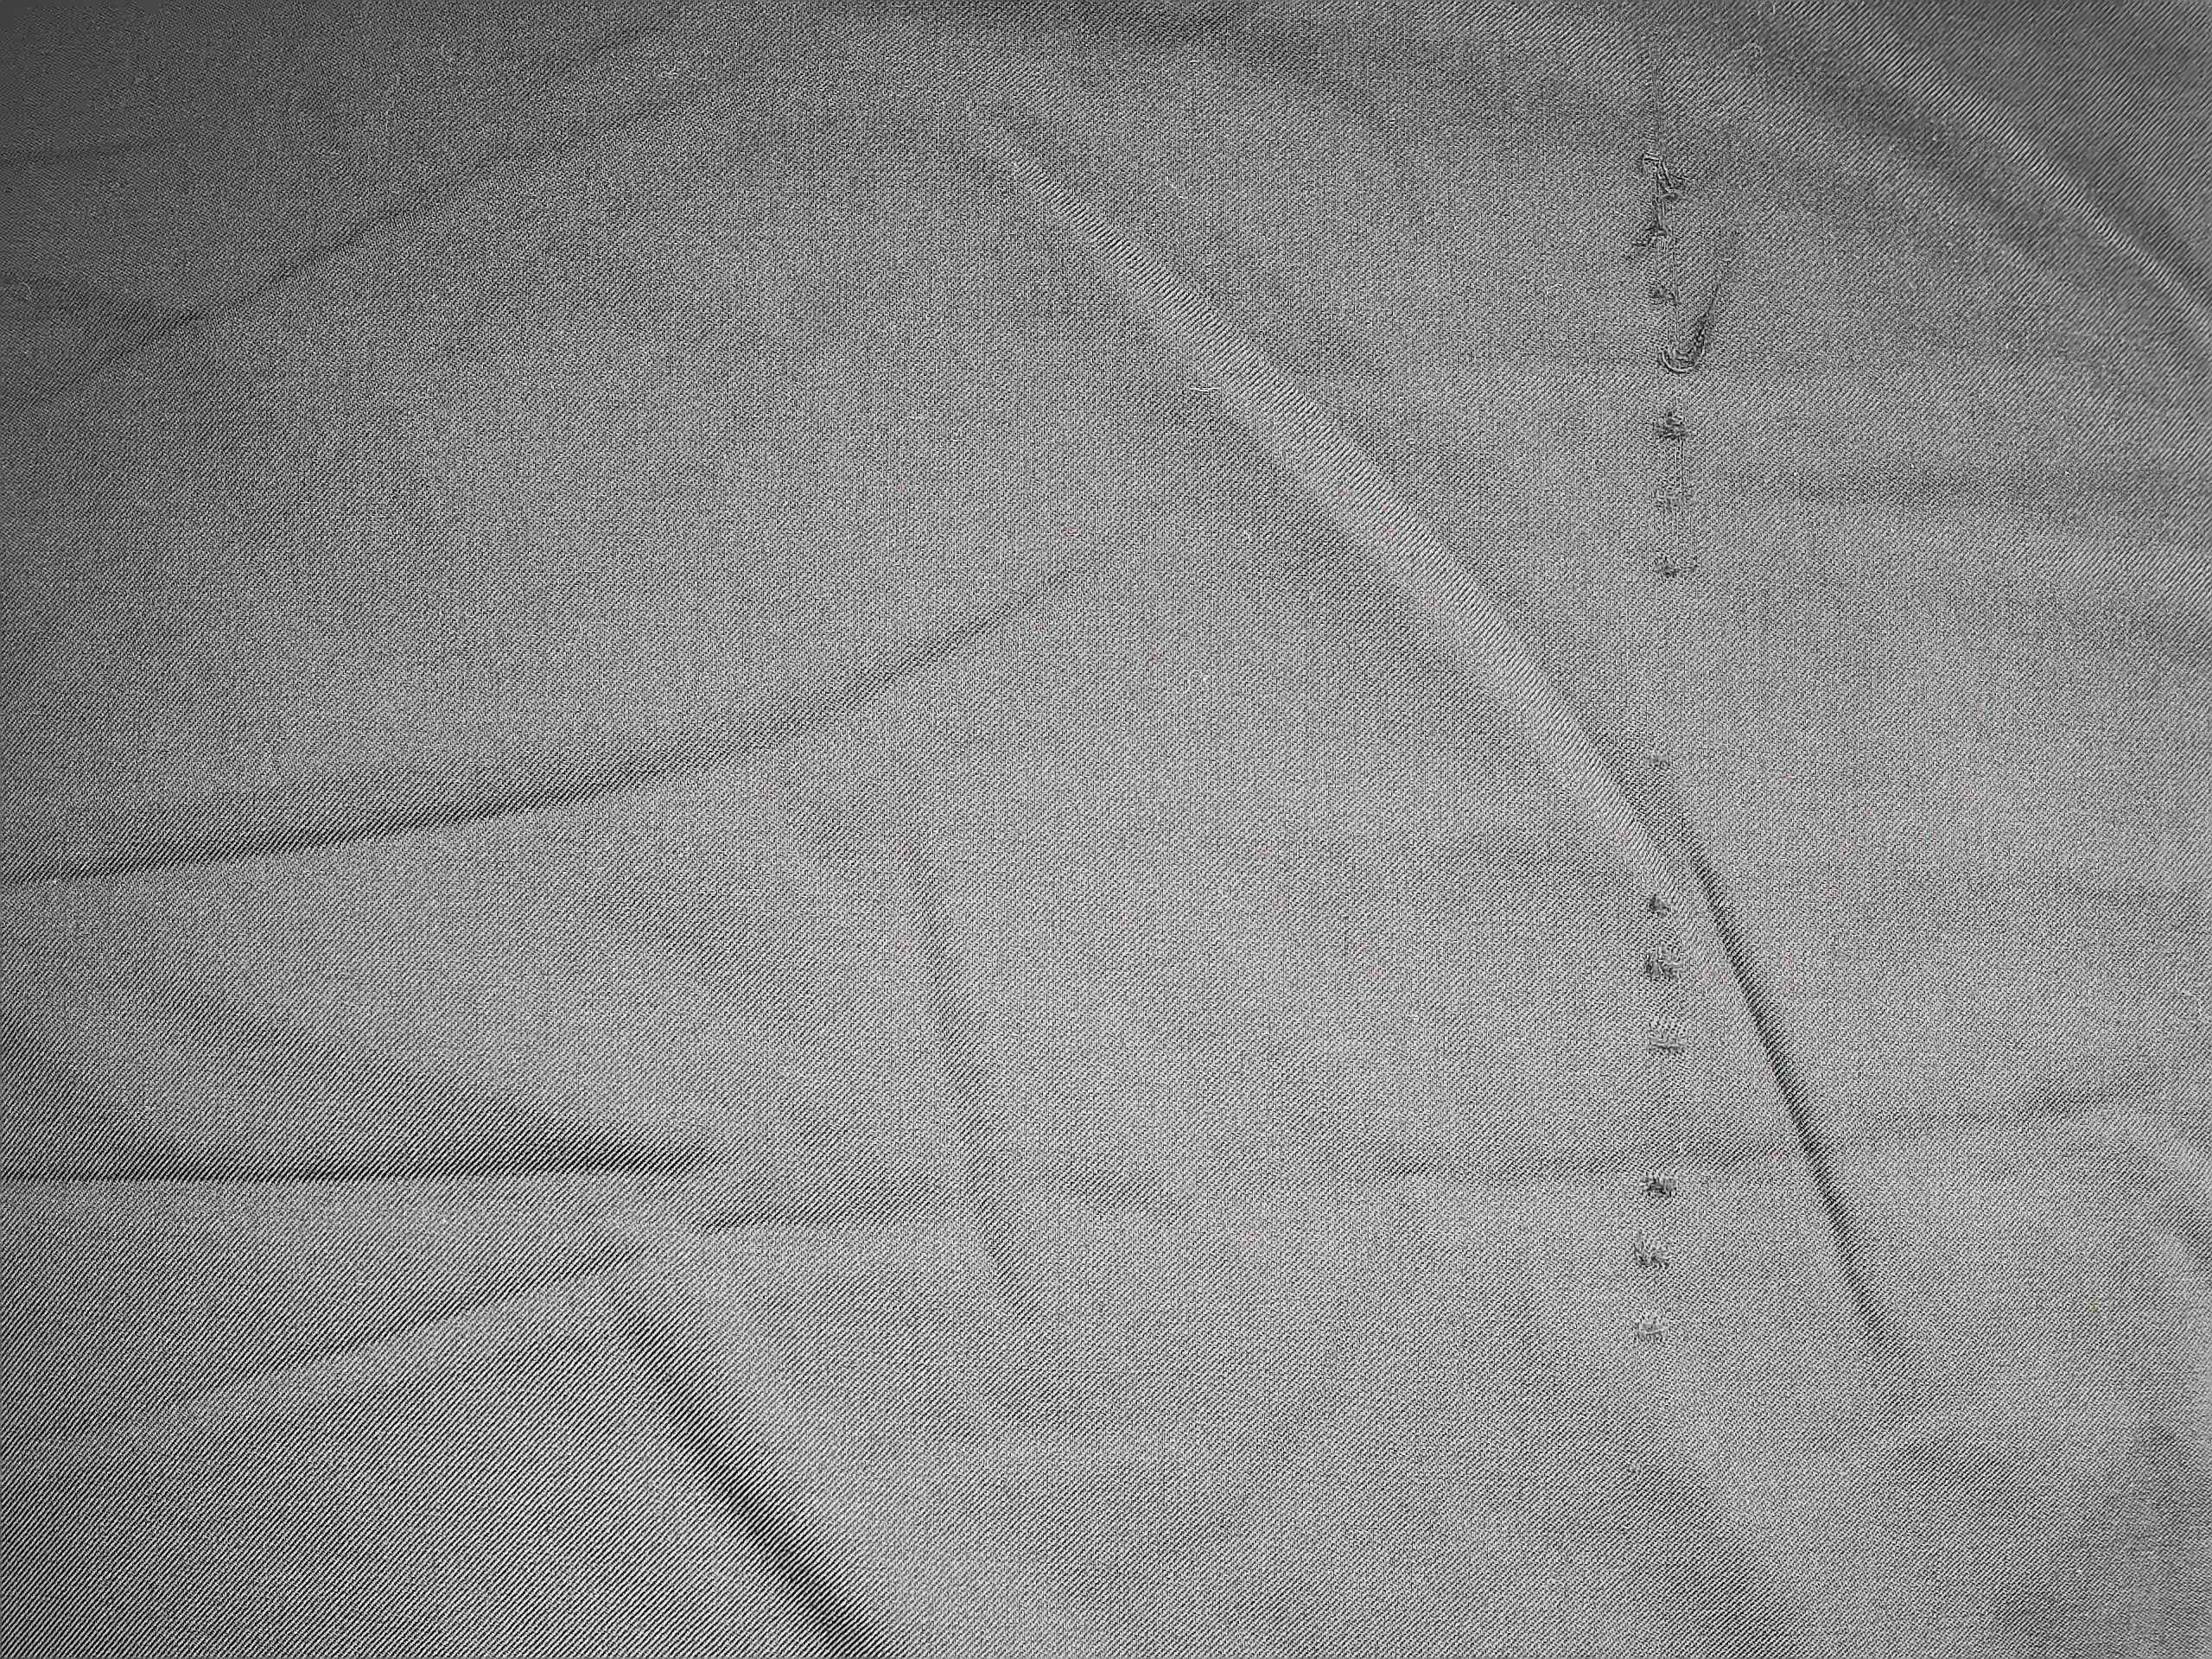others: (1601, 113, 1723, 1375)
